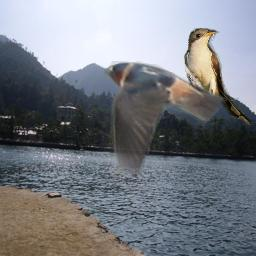Cuckoo: (184, 28, 253, 127)
Swallow: (104, 57, 227, 174)
